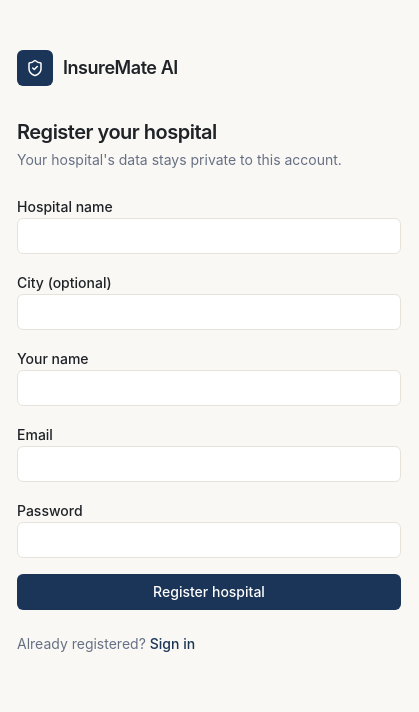
Scenario: AuthPage › validates fields before calling the API
Click the button "Register hospital".
click(209, 592)  # box left=17, top=574, right=401, bottom=610
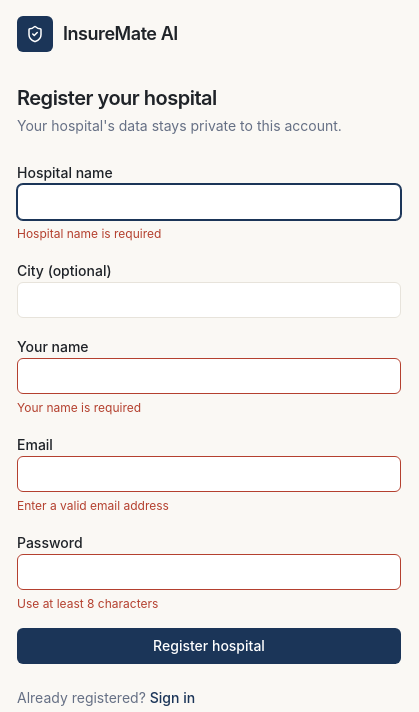
Check: the text "Your name is required" is shown, box left=17, top=400, right=141, bottom=415
Check: the text "Hospital name is required" is shown, box left=17, top=226, right=161, bottom=241
Check: the text "Enter a valid email address" is shown, box left=17, top=498, right=169, bottom=513
